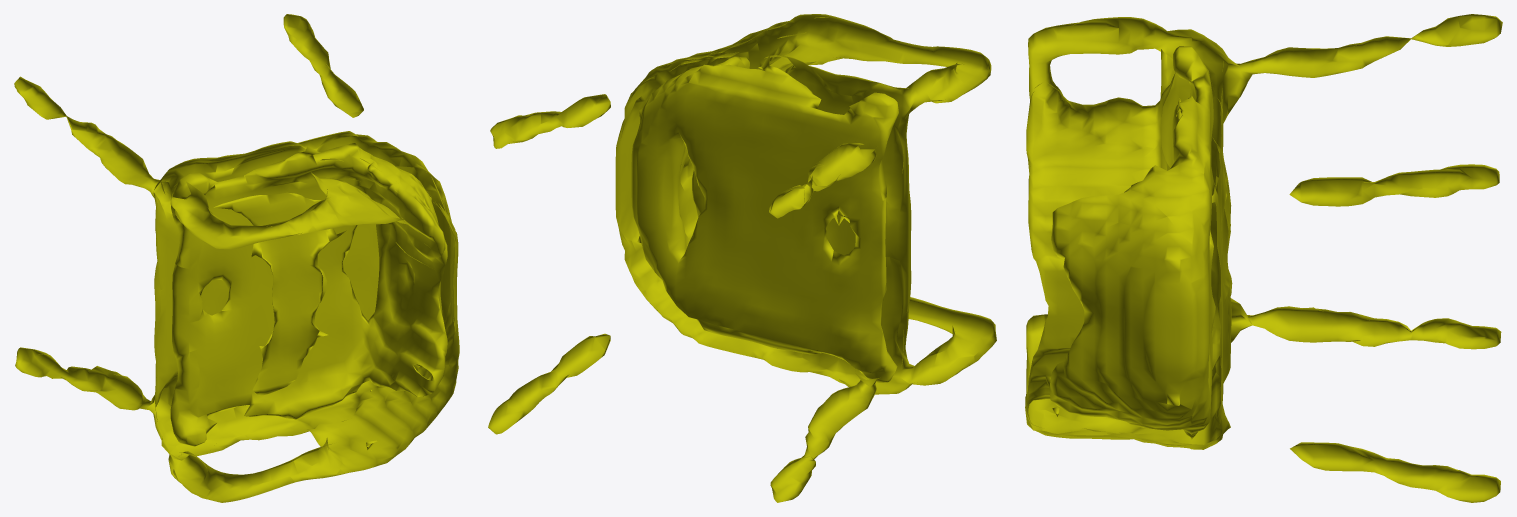
The picture shows the model from 3 angles, left to right: view 1: azimuth 30°, elevation 25°; view 2: azimuth 150°, elevation 25°; view 3: azimuth 270°, elevation 25°; orthographic projection. The views are drawn at different scales.
Parts seen in each view (by area): view 1: world; view 2: world; view 3: world.
Boxes of the visible parts, left/top/right/bottom form: world: left=14, top=14, right=459, bottom=502; world: left=488, top=14, right=996, bottom=502; world: left=1025, top=14, right=1502, bottom=502.
Bounding box in the file's own units: 32.06 × 30.36 × 39.19.
